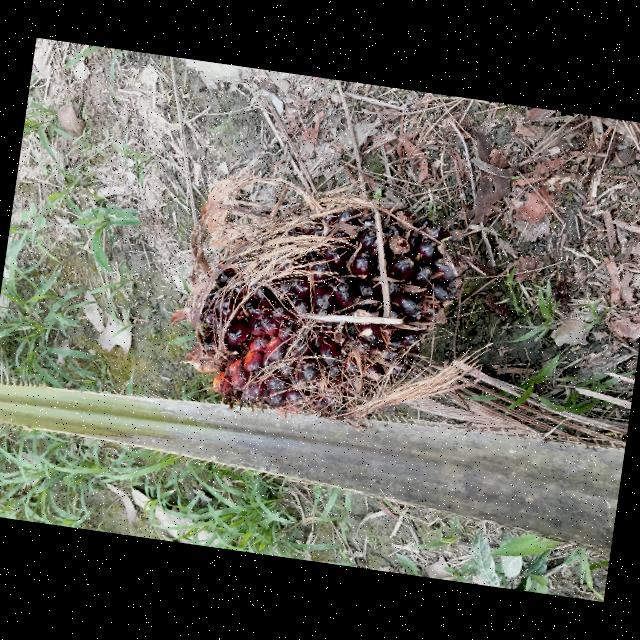Ripe: (193, 214, 453, 406)
